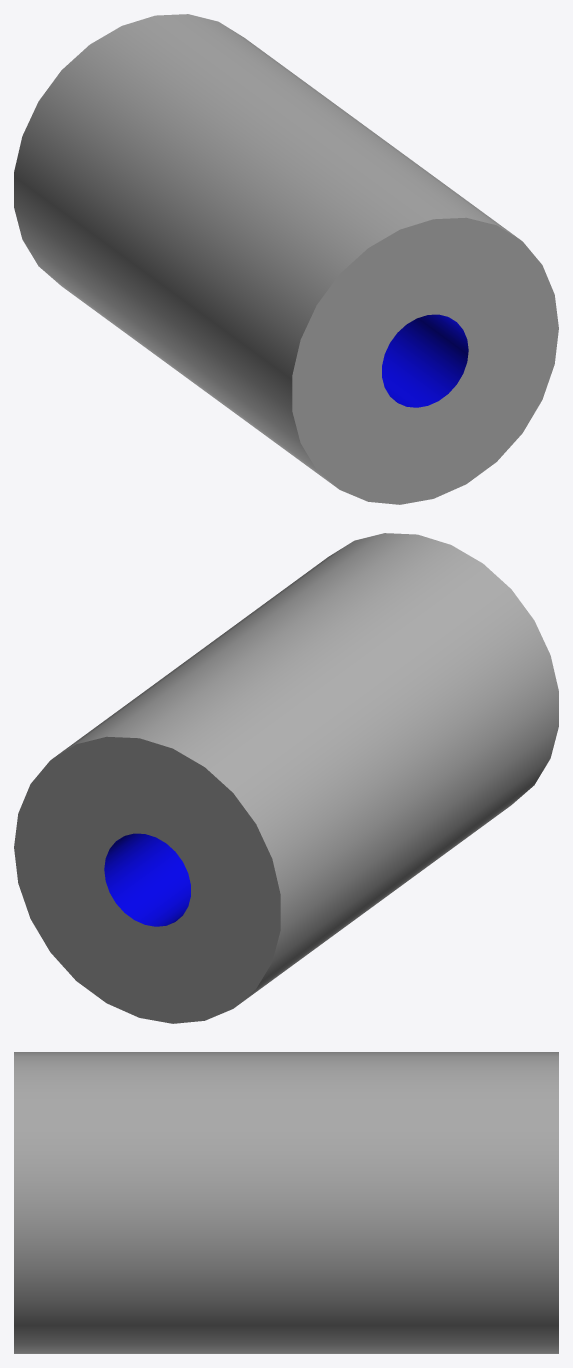
The model's file is Tube_Thick.fbx.
3 views of the same model, one above another, from view 1: azimuth 30°, elevation 25°; view 2: azimuth 150°, elevation 25°; view 3: azimuth 270°, elevation 25° (orthographic). The views are drawn at different scales.
Visible parts, largest first — view 1: pasted__RingBig; view 2: pasted__RingBig; view 3: pasted__RingBig.
Part boxes in pixels (x1,y1,x2,y2): pasted__RingBig: (14, 14, 558, 504); pasted__RingBig: (14, 533, 558, 1023); pasted__RingBig: (14, 1052, 558, 1353).
Bounding box in the file's own units: 1.69 × 1.69 × 3.05.
